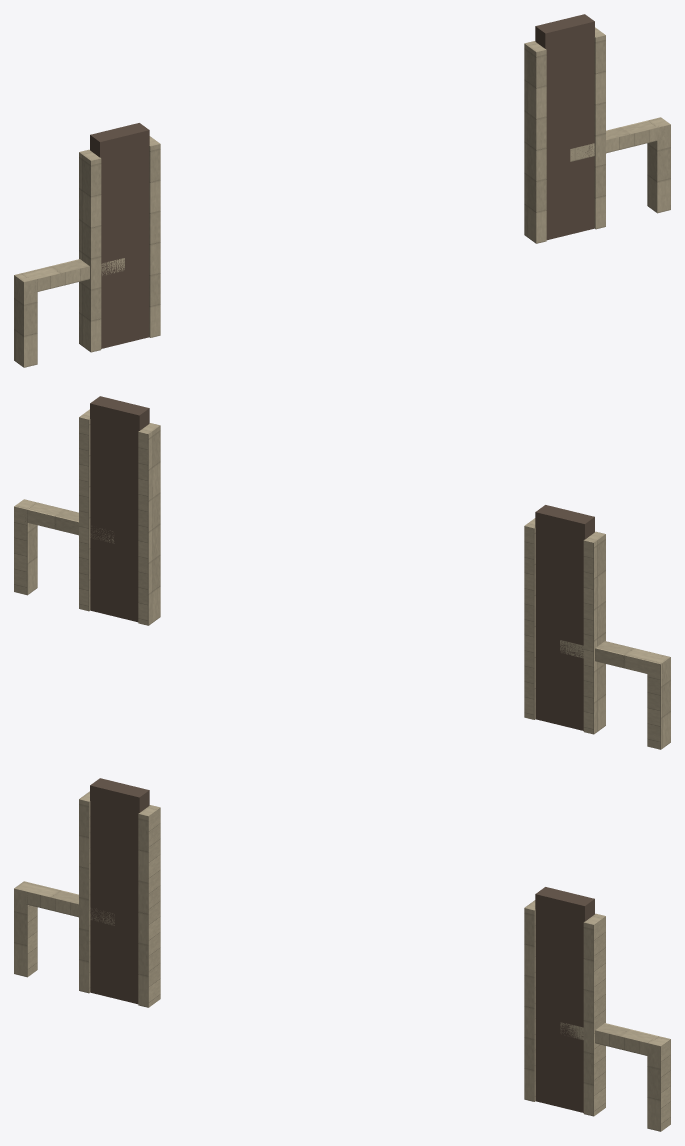
3 renders of one model, top to bottom at view 1: azimuth 30°, elevation 25°; view 2: azimuth 150°, elevation 25°; view 3: azimuth 330°, elevation 25°, orthographic.
Visible parts, largest first — view 1: mainGate__mainGateOpening; view 2: mainGate__mainGateOpening; view 3: mainGate__mainGateOpening.
Part boxes in pixels (x1=…): mainGate__mainGateOpening: x1=14, y1=14, x2=670, y2=367; mainGate__mainGateOpening: x1=14, y1=396, x2=670, y2=749; mainGate__mainGateOpening: x1=14, y1=778, x2=670, y2=1131.
Bounding box in the file's own units: 26.15 × 8 × 0.8516.
2 materials, 1 textured.
